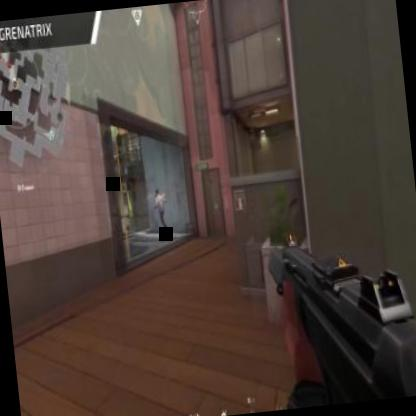enemy: (153, 187, 168, 233)
enemy_head: (154, 188, 159, 198)
